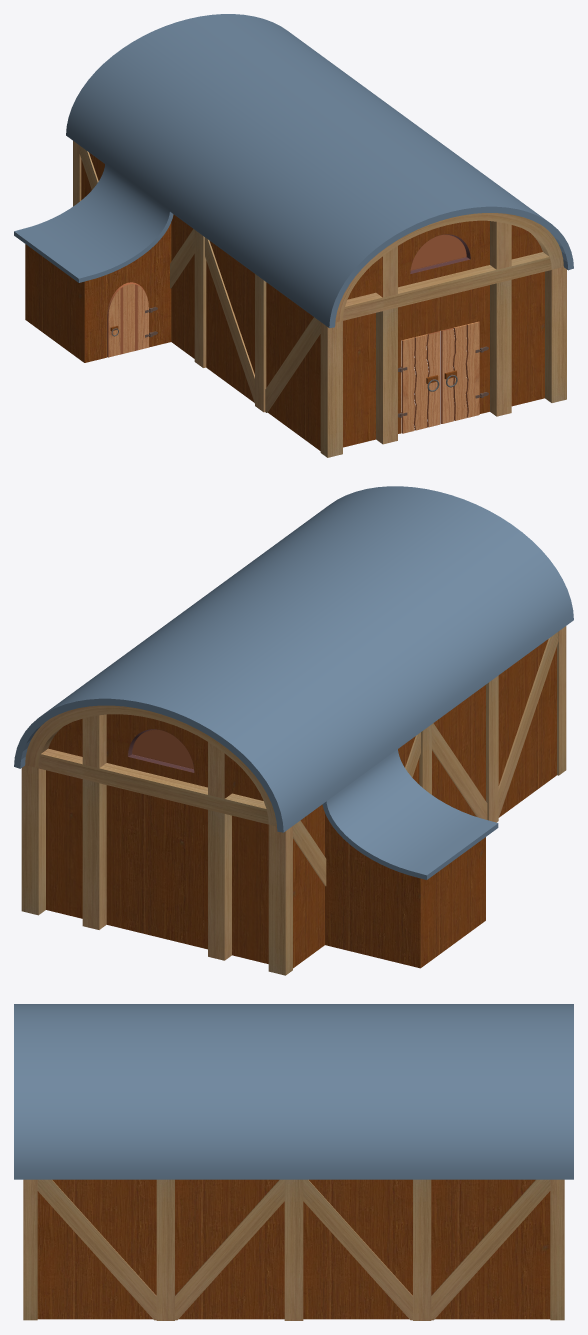
Rendered from Firm_House.fbx.
The picture shows the model from 3 angles, top to bottom: view 1: azimuth 30°, elevation 25°; view 2: azimuth 150°, elevation 25°; view 3: azimuth 270°, elevation 25°; orthographic projection. The views are drawn at different scales.
Parts seen in each view (by area): view 1: FarmHouse, Front_Door, Front_Door1, Door; view 2: FarmHouse; view 3: FarmHouse.
Part boxes in pixels (x1,y1,x2,y2): FarmHouse: (14,14,573,457); Front_Door: (440,321,483,423); Front_Door1: (399,331,440,433); Door: (107,282,152,357); FarmHouse: (14,486,573,975); FarmHouse: (14,1004,573,1320).
Bounding box in the file's own units: 964 × 605 × 1311.
Materials: 1 (1 with a texture image).
